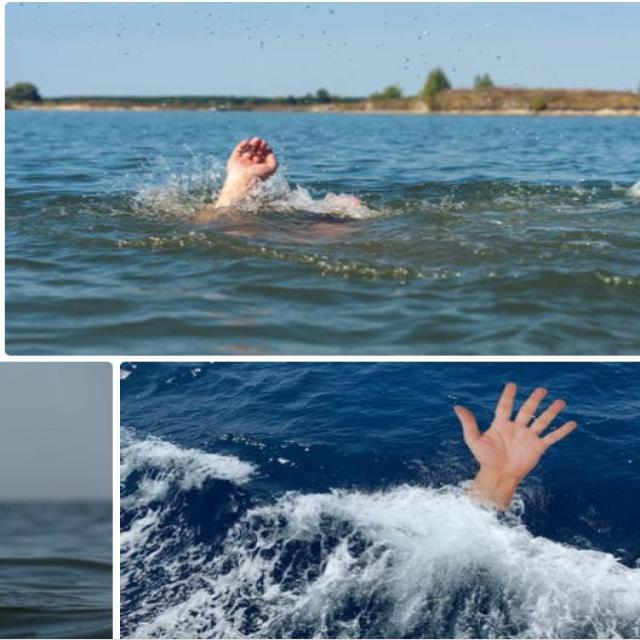Out of Water: (441, 378, 583, 515), (197, 130, 279, 220)
